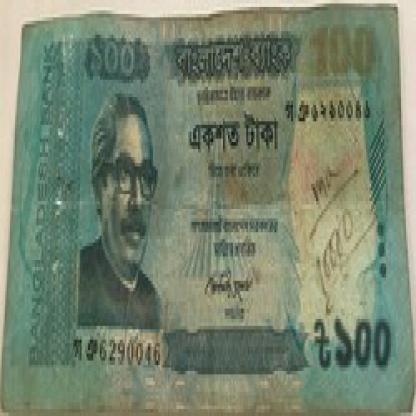one hundred taka: (320, 298, 398, 388), (310, 21, 378, 83), (87, 28, 142, 86)
